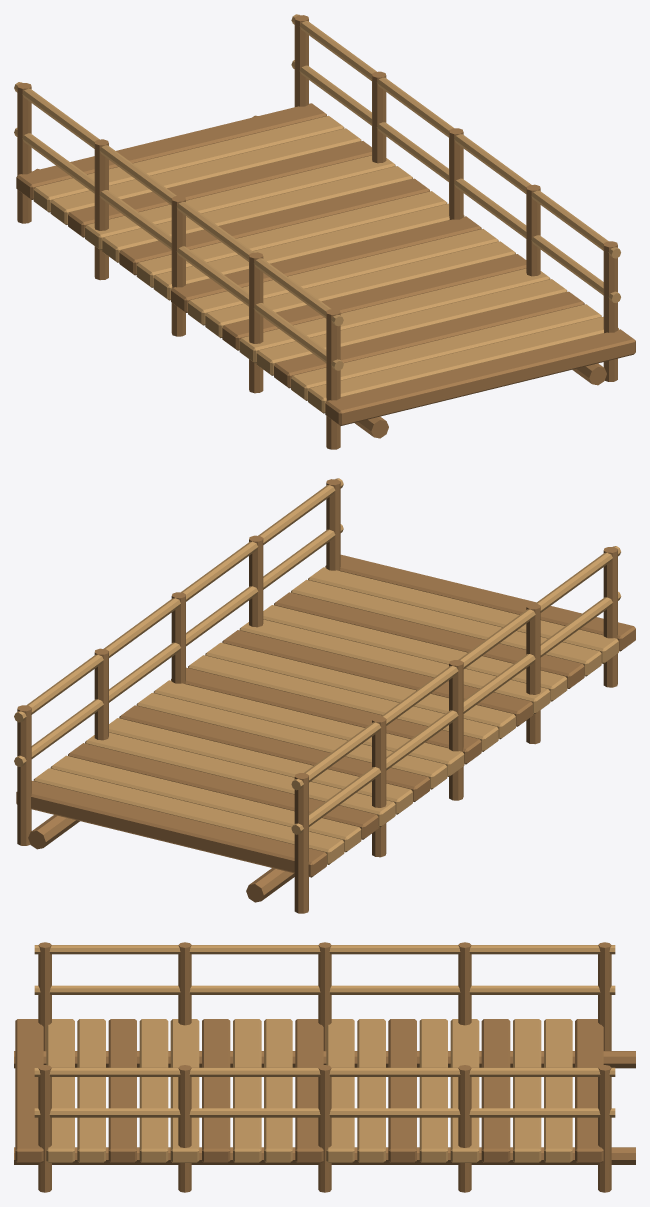
File: prop_bridge_wood.glb
3 views of the same model, one above another, from view 1: azimuth 30°, elevation 25°; view 2: azimuth 150°, elevation 25°; view 3: azimuth 270°, elevation 25° (orthographic). The views are drawn at different scales.
Parts seen in each view (by area): view 1: prop_bridge_wood; view 2: prop_bridge_wood; view 3: prop_bridge_wood.
Part boxes in pixels (bbox=[...]): prop_bridge_wood: bbox=[14, 14, 635, 449]; prop_bridge_wood: bbox=[14, 478, 635, 913]; prop_bridge_wood: bbox=[14, 942, 635, 1192].
Bounding box in the file's own units: 3 × 1.3 × 6.
